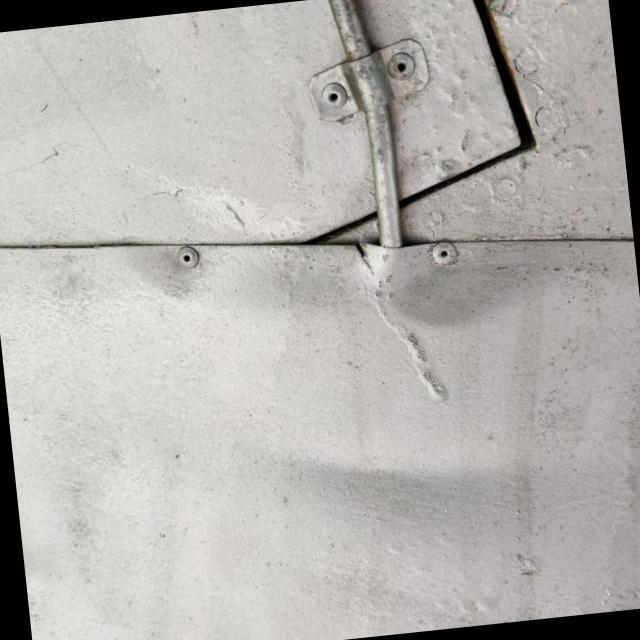Rupture: (334, 222, 384, 281)
